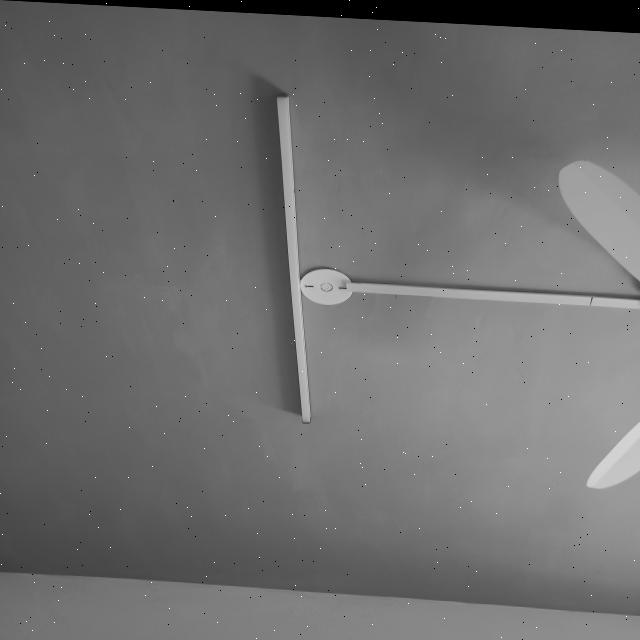light_off: (250, 80, 342, 426)
